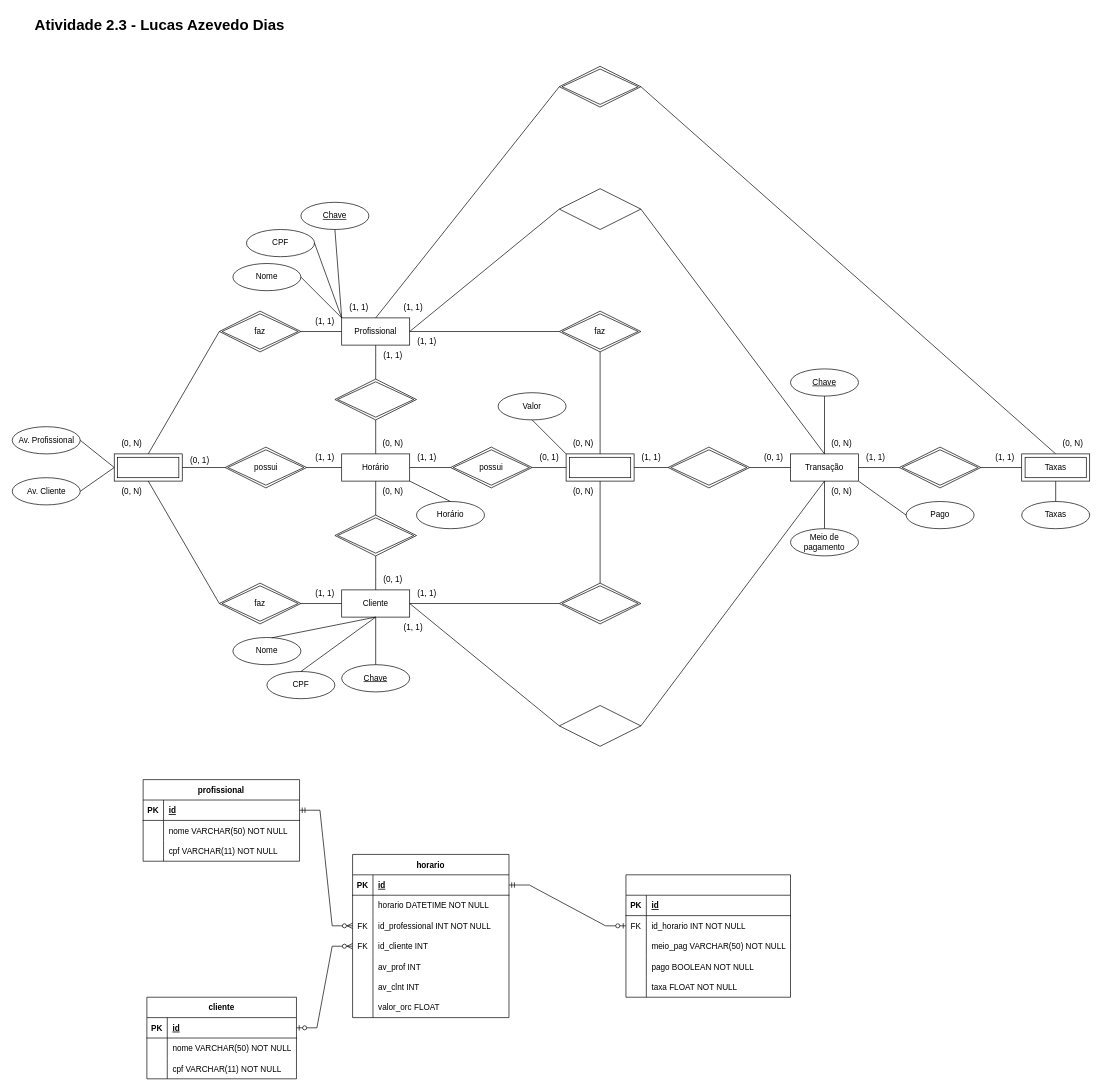
Image size: 1102x1091. Some labels were removed from this diagram. The shapes that lost their labels are listed below. From the top down, each one's box as (x1, y1, x2, y2) in pixels, then its label:
(559, 66, 641, 107): paga
(559, 188, 641, 230): reecebe
(334, 378, 417, 420): disponibiliza
(114, 453, 182, 481): Avaliação
(565, 453, 634, 481): Orçamento
(667, 446, 750, 488): pertence
(899, 446, 981, 488): gera
(334, 514, 417, 556): agenda
(559, 582, 641, 624): requere
(559, 705, 641, 746): realiza
(625, 874, 790, 997): transacao
